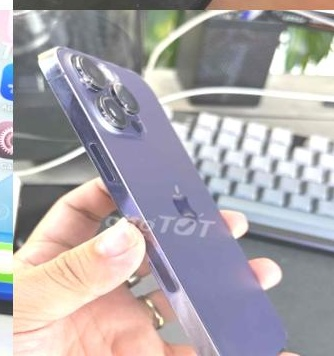scratch: (154, 0, 220, 10)
